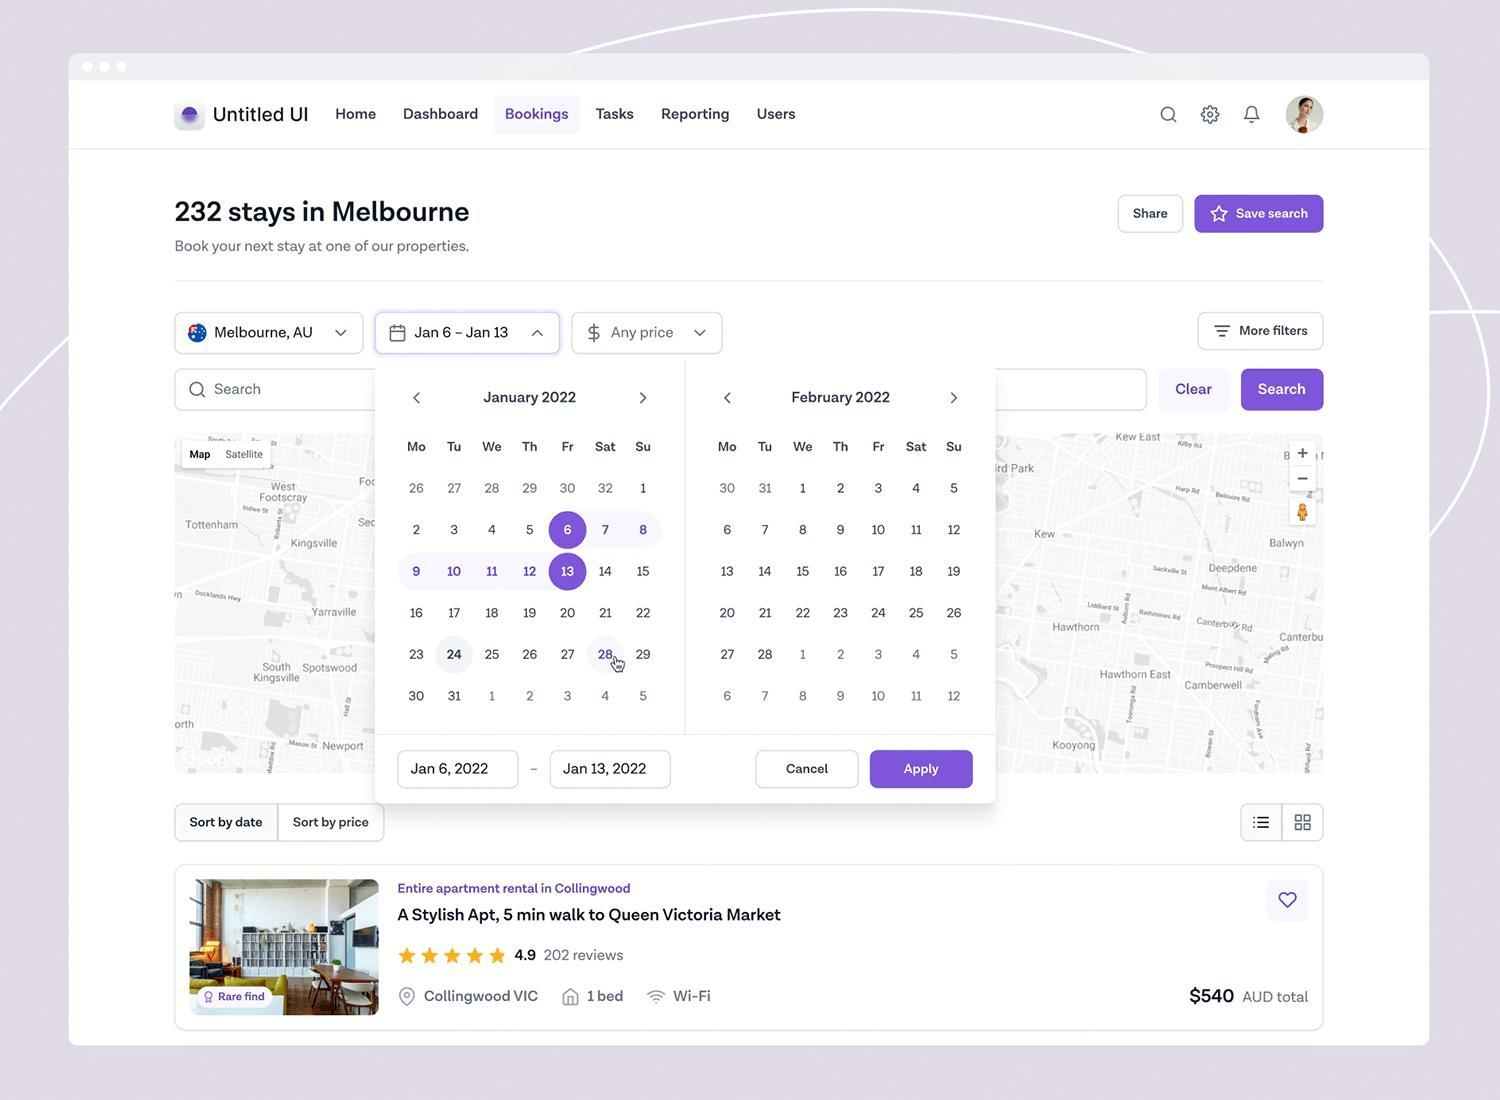button: (1195, 196, 1326, 235), (1202, 312, 1325, 350), (280, 804, 385, 843), (872, 750, 976, 787), (176, 804, 280, 842), (1158, 366, 1233, 413), (758, 754, 859, 789), (1244, 370, 1325, 413), (495, 97, 580, 132), (1119, 193, 1184, 232)
dropdown: (174, 315, 367, 356), (377, 315, 562, 353), (572, 314, 726, 354)
icon: (1248, 811, 1278, 833), (1292, 811, 1316, 835), (1278, 889, 1303, 911), (634, 389, 655, 414), (1158, 106, 1182, 127), (1245, 102, 1265, 128), (719, 388, 740, 411), (1202, 104, 1223, 126), (561, 989, 583, 1010), (648, 988, 668, 1007), (406, 388, 430, 404), (943, 386, 958, 411), (399, 987, 418, 1007)
input: (174, 367, 375, 412), (550, 752, 670, 789), (398, 751, 521, 785)
label: (397, 902, 797, 930), (784, 390, 898, 410), (484, 388, 582, 410), (399, 105, 484, 126), (660, 106, 730, 125), (330, 104, 382, 128), (596, 109, 641, 127), (756, 107, 801, 122)
table: (372, 435, 686, 734), (687, 433, 995, 734)
